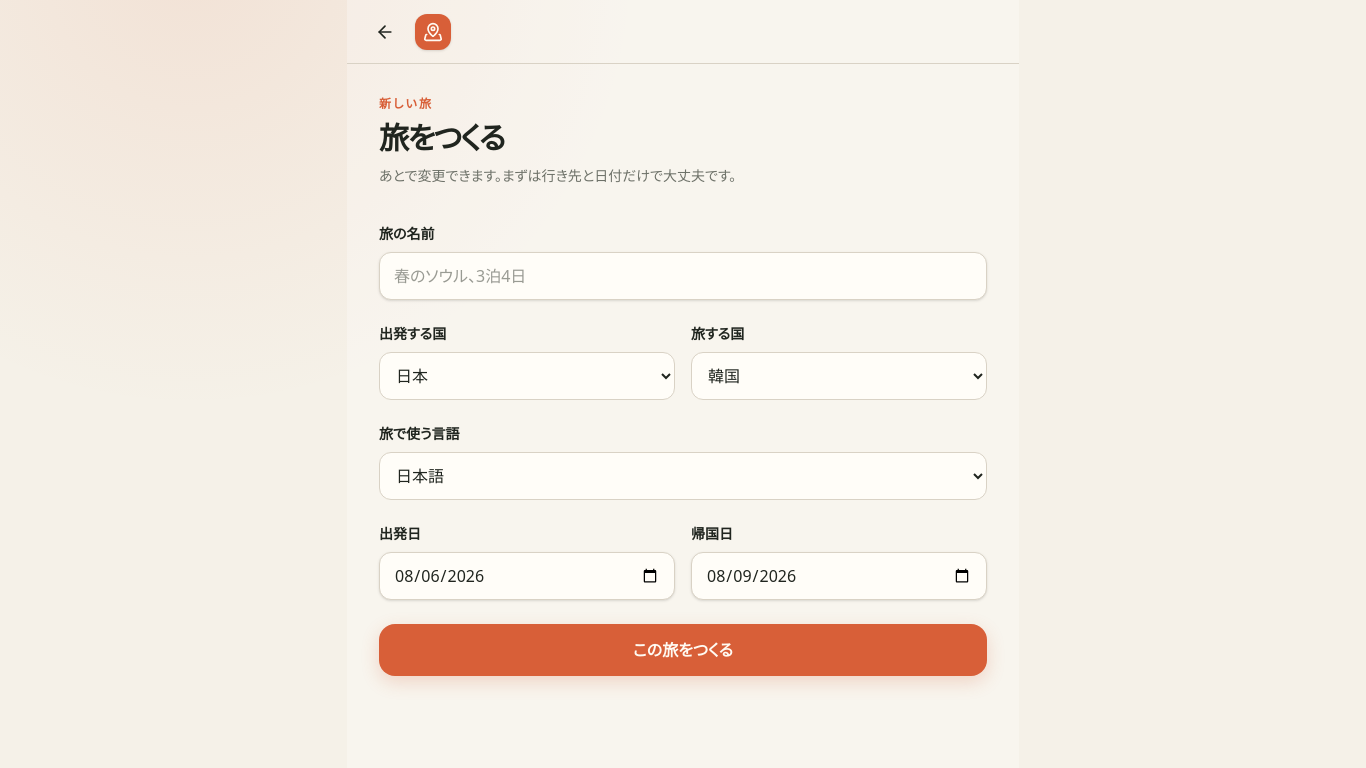
Scenario: connects a translated error to the invalid date field
Step 1. Type "秋の釜山" into the field labelled "旅の名前" → (683, 276), box [379,252,987,300]
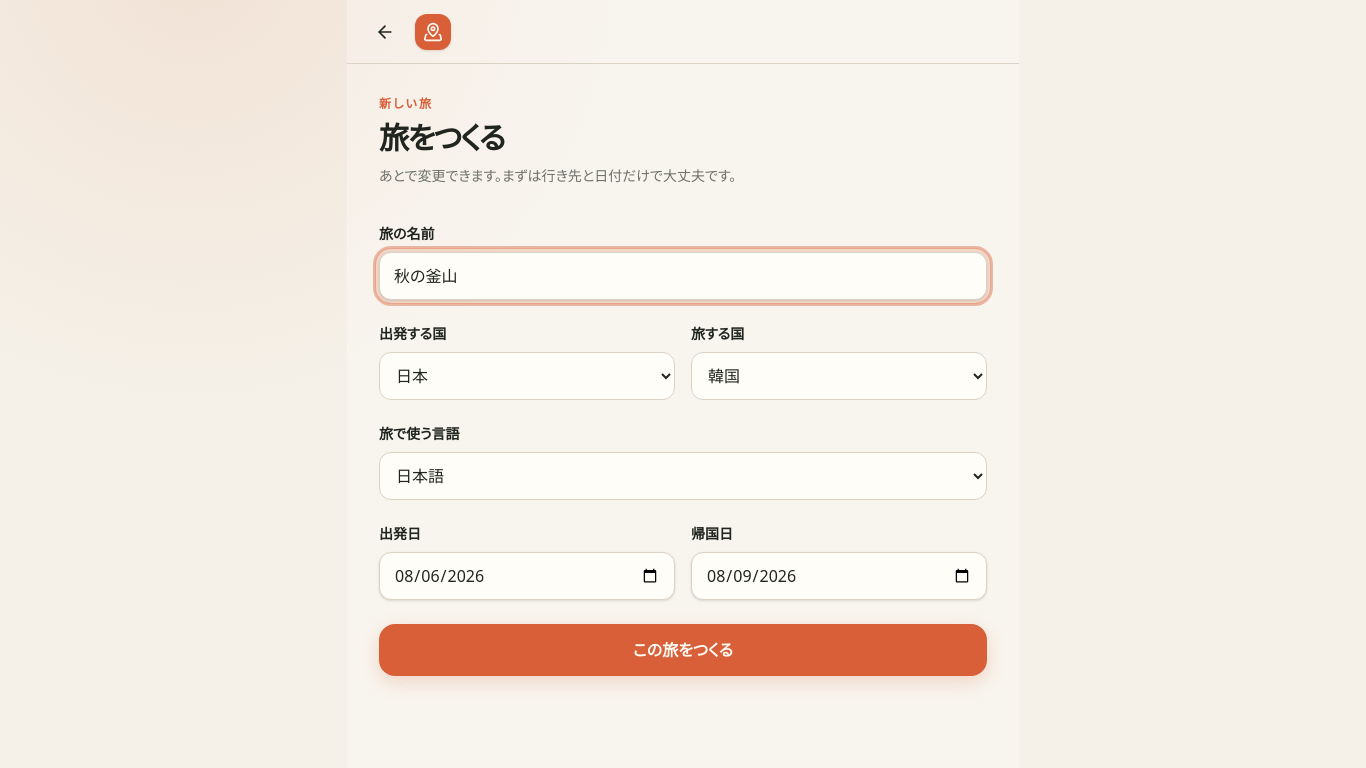
Step 2. Type "2026-10-10" into the date field labelled "出発日" → (527, 576), box [379,552,675,600]
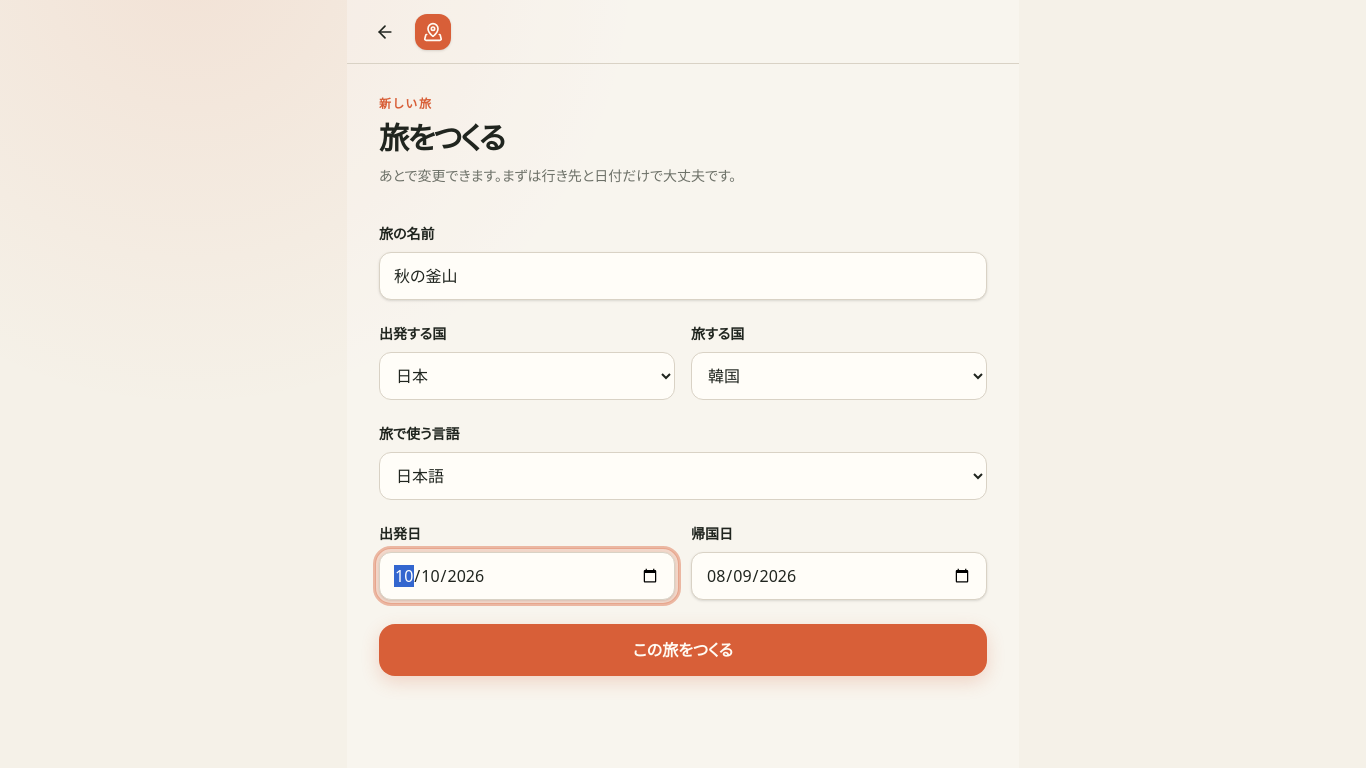
Step 3. Type "2026-10-01" into the date field labelled "帰国日" → (839, 576), box [691,552,987,600]
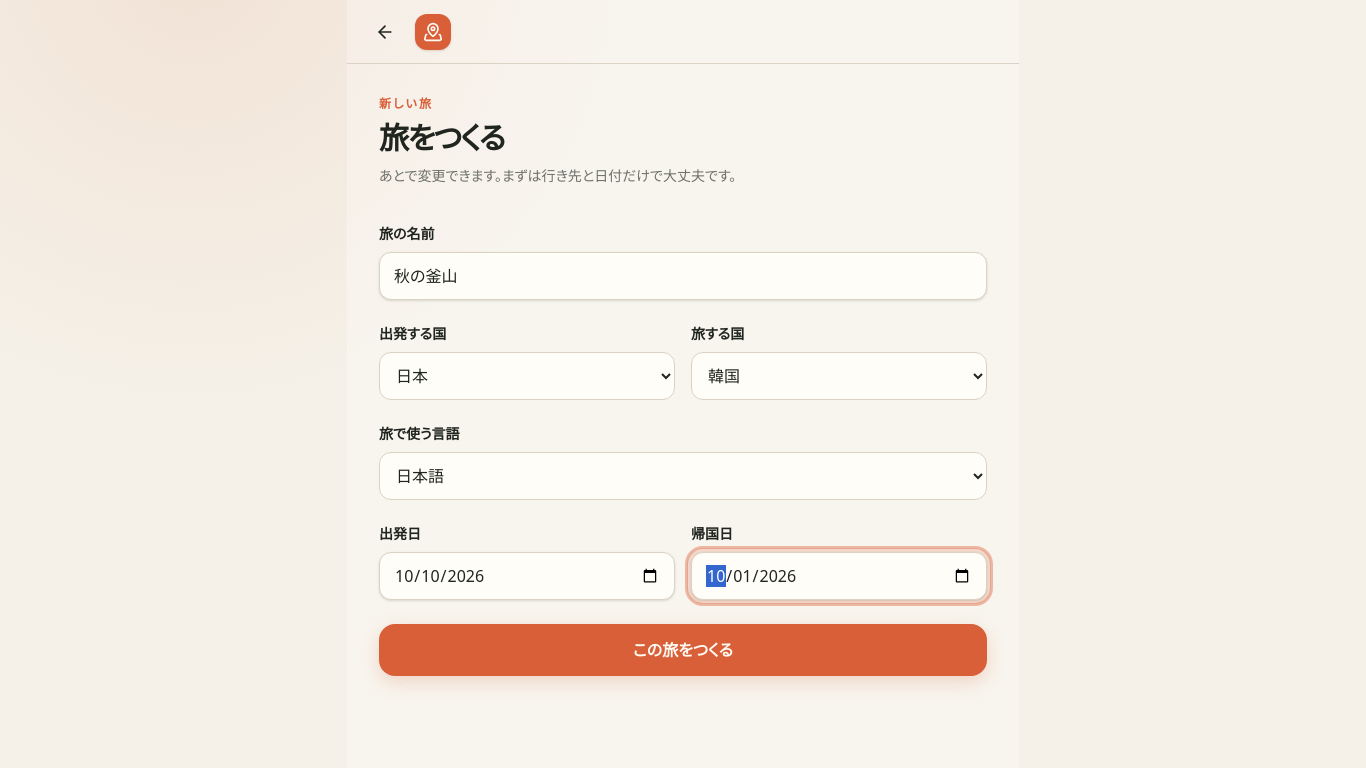
Step 4. Click the button "この旅をつくる" → (683, 650), box [379,624,987,676]
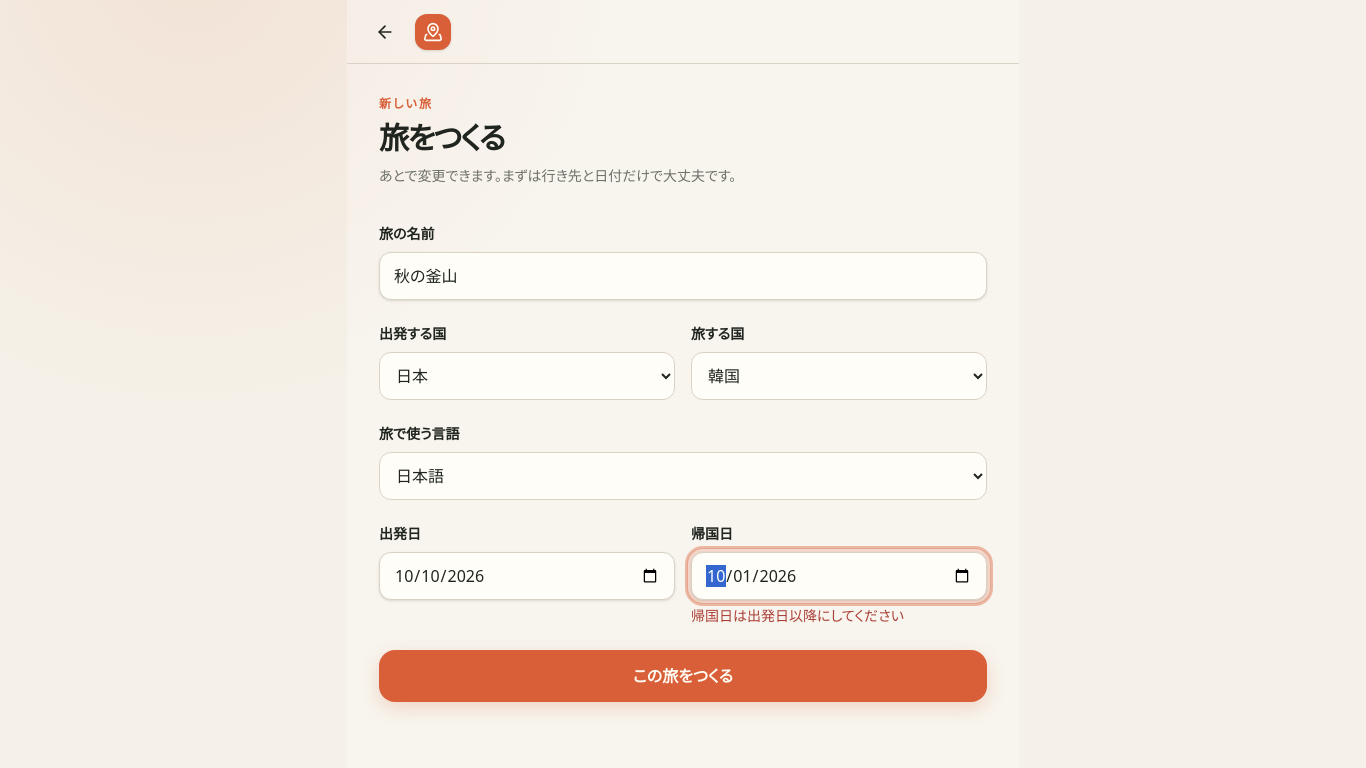
Check: the message reads "帰国日は出発日以降にしてください", box [691,606,904,625]
